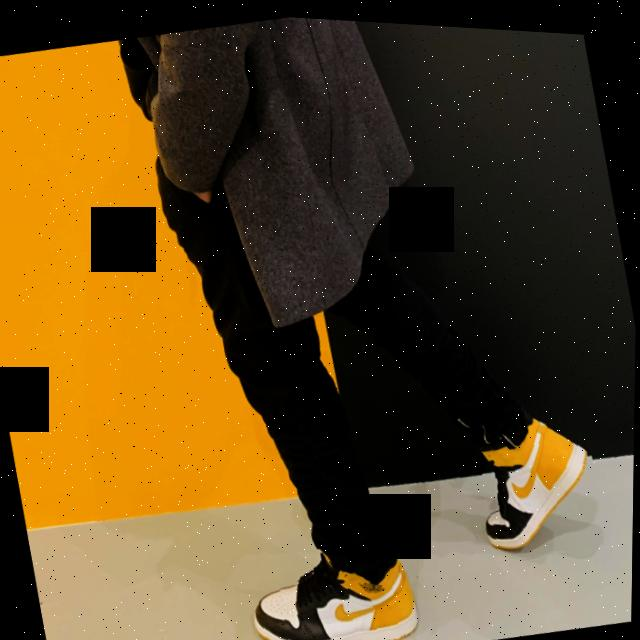shoe: (452, 385, 612, 566), (241, 522, 439, 640)
